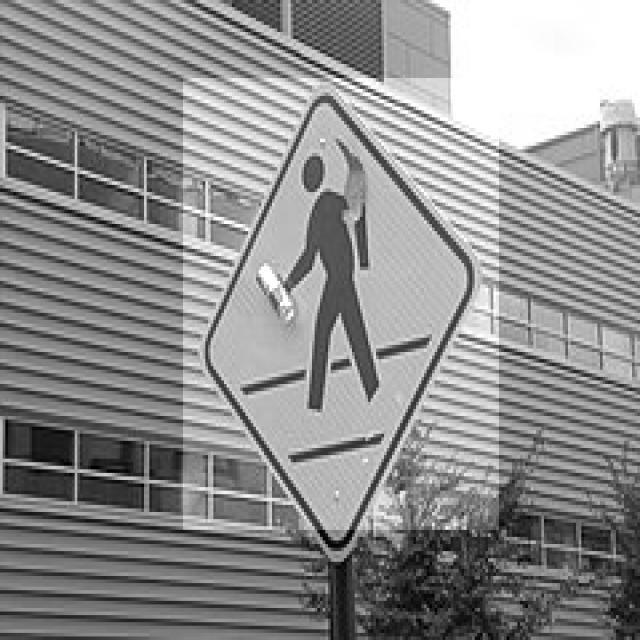pedestrian crossing: (193, 78, 482, 556)
